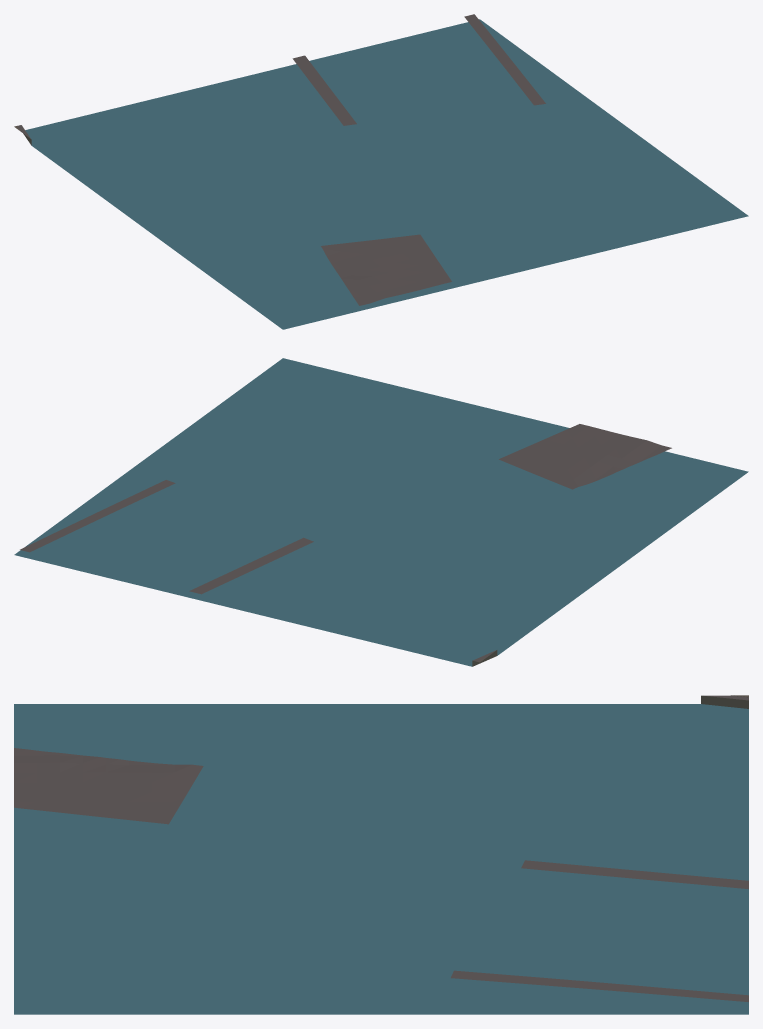
3 renders of one model, top to bottom at view 1: azimuth 30°, elevation 25°; view 2: azimuth 150°, elevation 25°; view 3: azimuth 270°, elevation 25°, orthographic. The views are drawn at different scales.
Visible parts, largest first — view 1: c_p04_m03; view 2: c_p04_m03; view 3: c_p04_m03.
Part boxes in pixels (x1,y1,x2,y2): c_p04_m03: [14, 14, 748, 329]; c_p04_m03: [14, 358, 748, 666]; c_p04_m03: [14, 695, 748, 1014].
Bounding box in the file's own units: 128 × 1.82 × 128.
